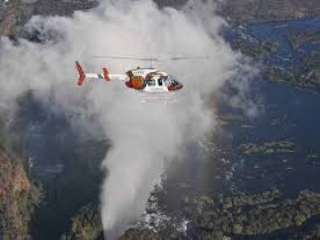smoke: (87, 90, 194, 239)
